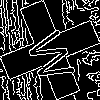W: (25, 25, 85, 86)
